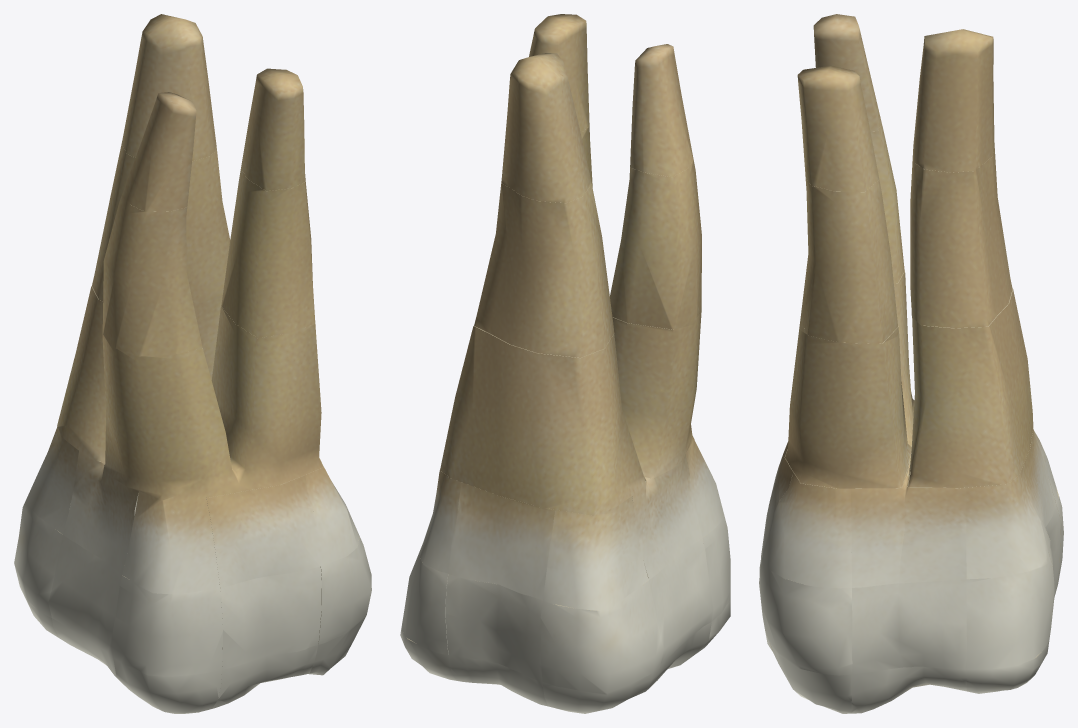
File: Right_Upper_First_Molar.glb
3 renders of one model, left to right at view 1: azimuth 30°, elevation 25°; view 2: azimuth 150°, elevation 25°; view 3: azimuth 270°, elevation 25°, orthographic. The views are drawn at different scales.
Parts seen in each view (by area): view 1: Human_Teeth_Upper_First_Molar_Geo.001; view 2: Human_Teeth_Upper_First_Molar_Geo.001; view 3: Human_Teeth_Upper_First_Molar_Geo.001.
Boxes of the visible parts, box(x1,y1,x2,y2) form: Human_Teeth_Upper_First_Molar_Geo.001: box(14, 14, 371, 713); Human_Teeth_Upper_First_Molar_Geo.001: box(400, 14, 730, 713); Human_Teeth_Upper_First_Molar_Geo.001: box(759, 14, 1063, 713).
Bounding box in the file's own units: 1.29 × 3.05 × 1.3.
30 materials, 30 textured.
